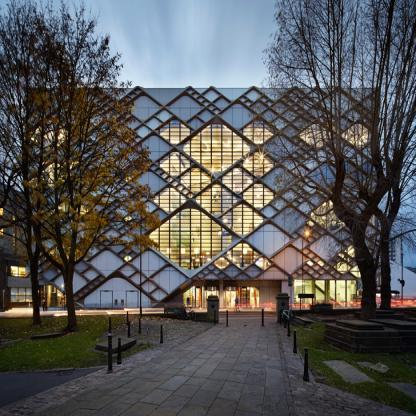Building Outline: (0, 84, 377, 312)
Door: (223, 291, 238, 308), (126, 291, 138, 309), (101, 291, 113, 309), (205, 291, 217, 308), (196, 288, 201, 307), (241, 289, 246, 307)
Facade: (0, 84, 377, 310)
Glass Wall: (149, 209, 232, 270), (184, 124, 250, 172), (294, 280, 356, 307), (222, 204, 263, 235), (196, 185, 237, 215), (311, 200, 347, 230), (40, 285, 80, 307), (152, 188, 186, 211), (159, 119, 190, 143), (227, 243, 258, 267), (243, 152, 274, 175), (221, 168, 252, 191), (300, 124, 331, 147), (243, 184, 273, 207), (243, 120, 273, 143), (342, 125, 372, 147), (11, 287, 33, 303), (183, 287, 195, 307), (247, 287, 259, 307), (6, 266, 25, 278), (202, 287, 204, 307)
Window: (160, 152, 190, 175), (214, 257, 229, 269), (256, 257, 271, 269), (334, 262, 350, 273), (351, 265, 364, 277), (124, 175, 131, 181), (124, 255, 131, 261), (124, 215, 131, 221), (344, 256, 351, 262), (335, 128, 342, 133), (307, 261, 313, 266), (330, 125, 336, 130), (172, 181, 178, 186), (177, 185, 183, 190), (182, 189, 188, 194), (13, 233, 15, 246), (13, 215, 15, 228), (339, 253, 344, 258), (188, 193, 193, 198), (318, 261, 324, 265), (0, 208, 3, 215), (0, 228, 3, 235)
object: (30, 121, 68, 150), (49, 240, 83, 266), (53, 199, 88, 220), (181, 168, 211, 191), (40, 163, 70, 185), (63, 157, 79, 169)
